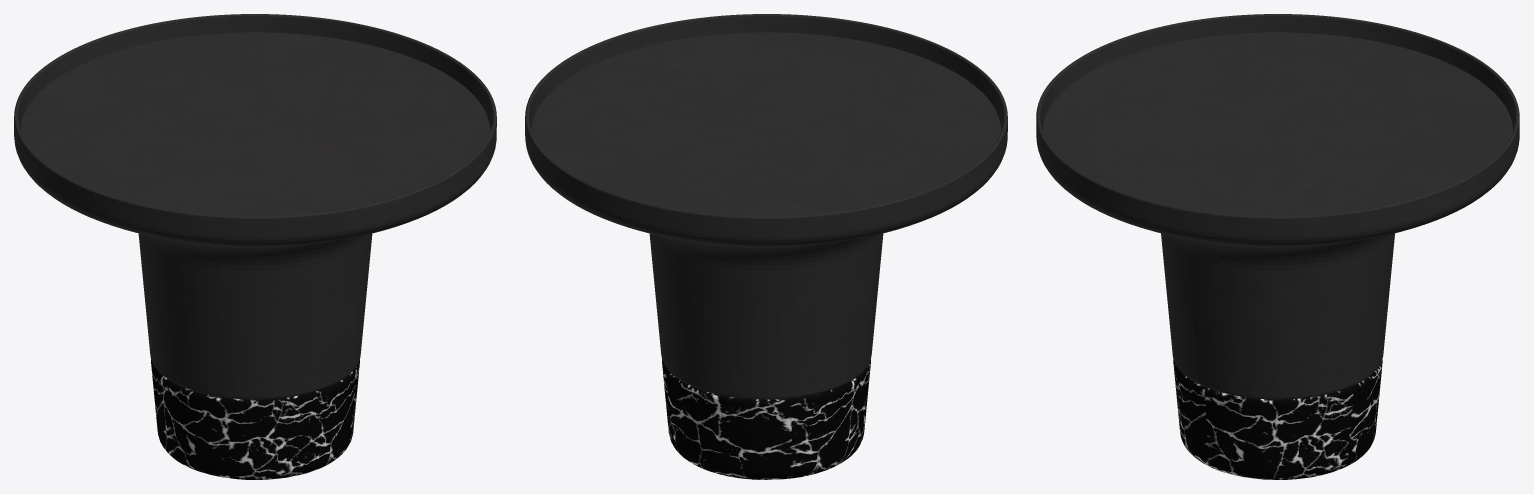
The model's file is pollersmall.gltf.
3 renders of one model, left to right at view 1: azimuth 30°, elevation 25°; view 2: azimuth 150°, elevation 25°; view 3: azimuth 270°, elevation 25°, orthographic.
Visible parts, largest first — view 1: Mesh; view 2: Mesh; view 3: Mesh.
Boxes of the visible parts, x1,y1,x2,y2 form: Mesh: (14,14,496,479); Mesh: (525,14,1007,479); Mesh: (1036,14,1519,479).
Size of the model in its own units: 0.599 by 0.45 by 0.6.
1 material, 1 textured.
